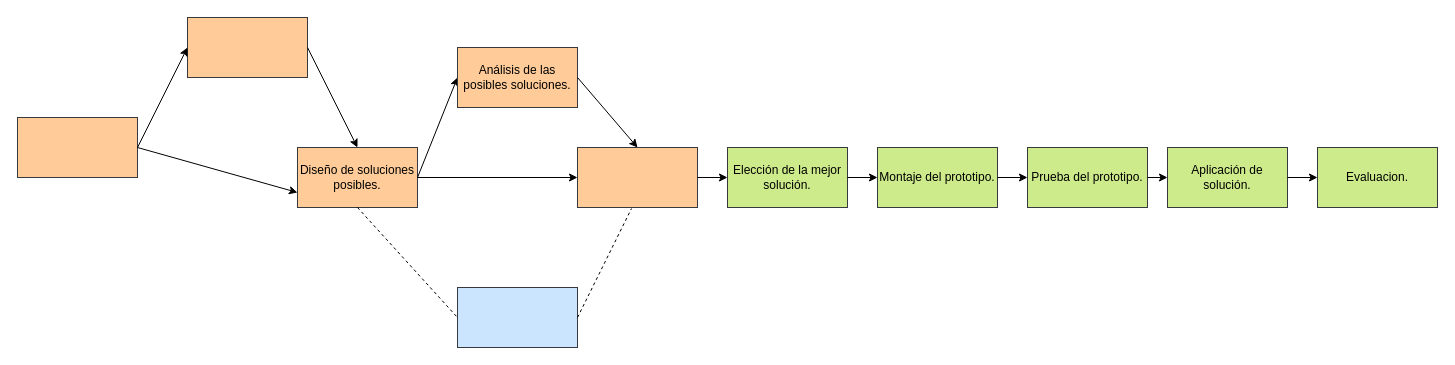
This 1455x365 diagram has some shape labels left out. The centre of each missing label's shape, as x and y in pixels:
"Comparación de soluciones." goes at pixel 637 177.
"Planteamiento de hipótesis." goes at pixel 247 47.
"Plantear si es posible llegar a una solución, no siguiendo los requerimientos." goes at pixel 517 317.
"Recopilación y análisis de datos." goes at pixel 77 147.
